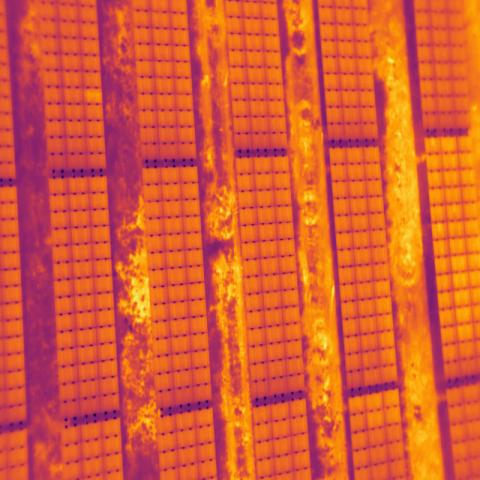fault: (83, 87, 103, 104)
